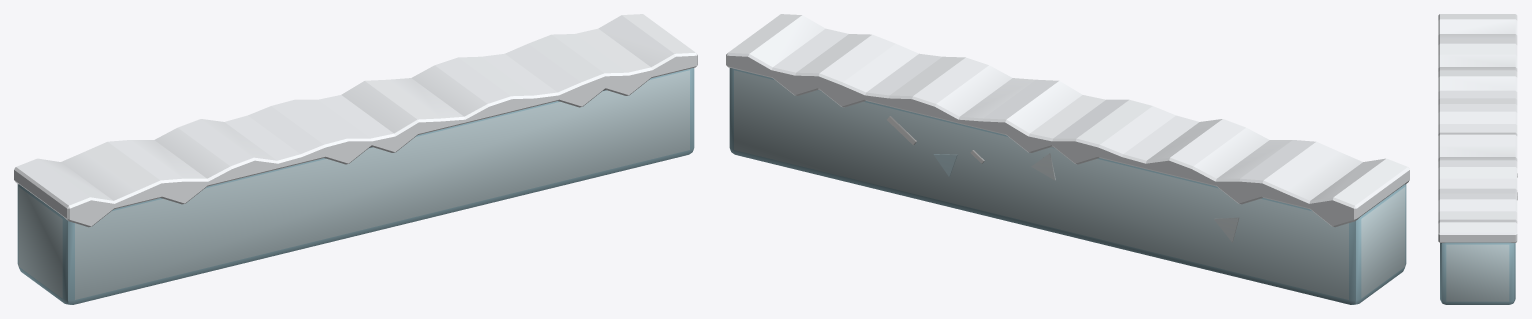
The model's file is PlankMediumIce.fbx.
3 views of the same model, side by side, from view 1: azimuth 30°, elevation 25°; view 2: azimuth 150°, elevation 25°; view 3: azimuth 270°, elevation 25° (orthographic). The views are drawn at different scales.
Parts seen in each view (by area): view 1: PlankMediumIce; view 2: PlankMediumIce; view 3: PlankMediumIce.
Part boxes in pixels (x1,y1,x2,y2): PlankMediumIce: [14, 14, 697, 304]; PlankMediumIce: [726, 14, 1409, 304]; PlankMediumIce: [1438, 14, 1517, 304].
Bounding box in the file's own units: 9.6 × 1.57 × 1.46.
